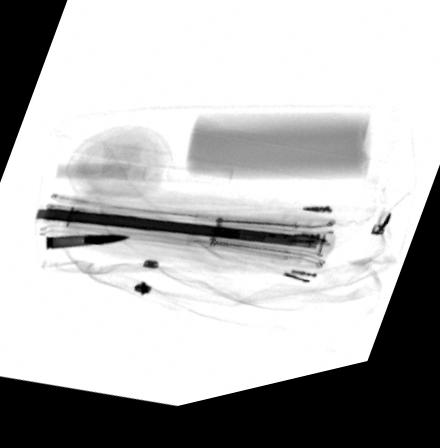Bullet: (45, 239, 134, 254)
